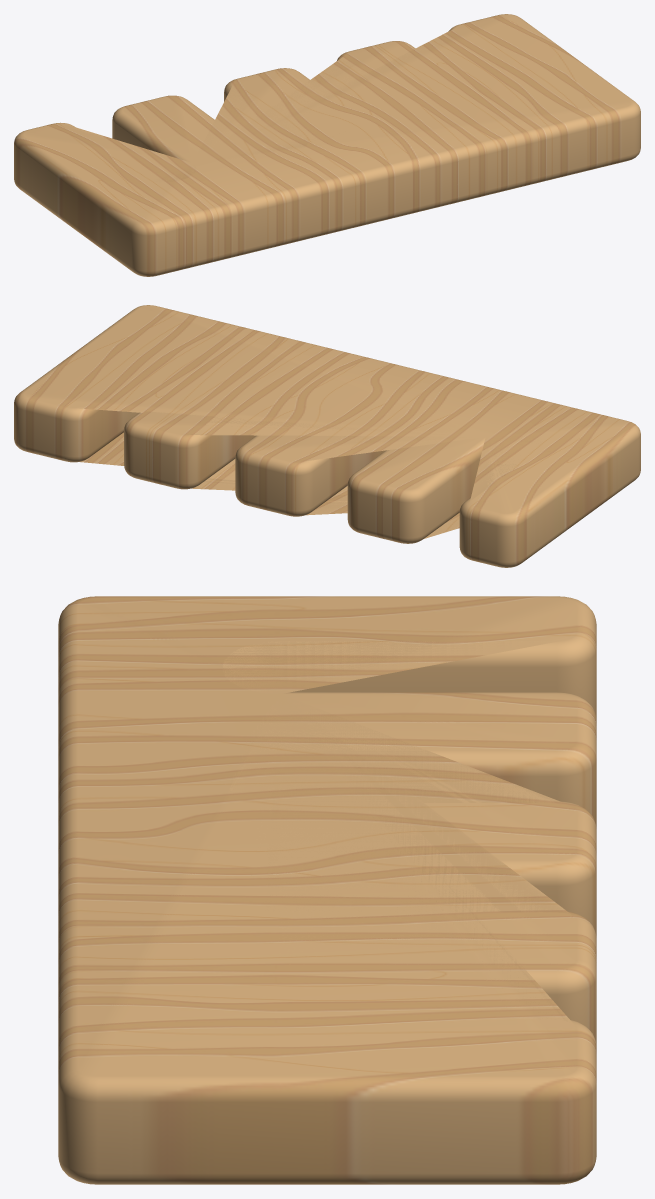
Rendered from beyzbolAski.fbx.
3 renders of one model, top to bottom at view 1: azimuth 30°, elevation 25°; view 2: azimuth 150°, elevation 25°; view 3: azimuth 270°, elevation 25°, orthographic. The views are drawn at different scales.
Parts seen in each view (by area): view 1: beyzbolAski; view 2: beyzbolAski; view 3: beyzbolAski.
Part boxes in pixels (box(x1,y1,x2,y2)): beyzbolAski: box(14, 14, 640, 276); beyzbolAski: box(14, 305, 640, 567); beyzbolAski: box(58, 596, 596, 1184).
Bounding box in the file's own units: 435 × 43.79 × 200.
